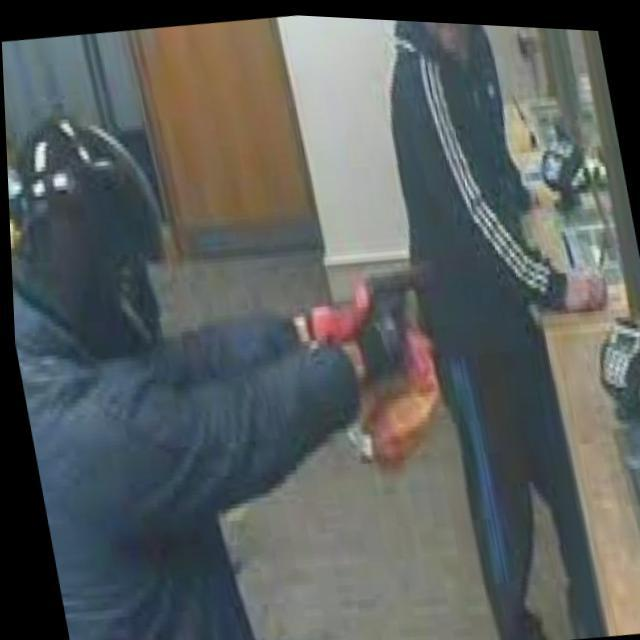weapon: (356, 257, 434, 346)
